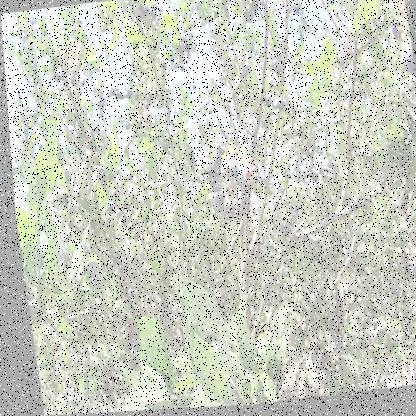mature: (395, 39, 416, 93), (224, 160, 238, 190), (271, 61, 287, 81), (259, 93, 274, 113), (270, 99, 284, 120)
young: (61, 40, 88, 79), (338, 43, 353, 70), (71, 170, 84, 189), (344, 28, 358, 45), (70, 184, 81, 203), (80, 188, 91, 203), (244, 172, 254, 185)
